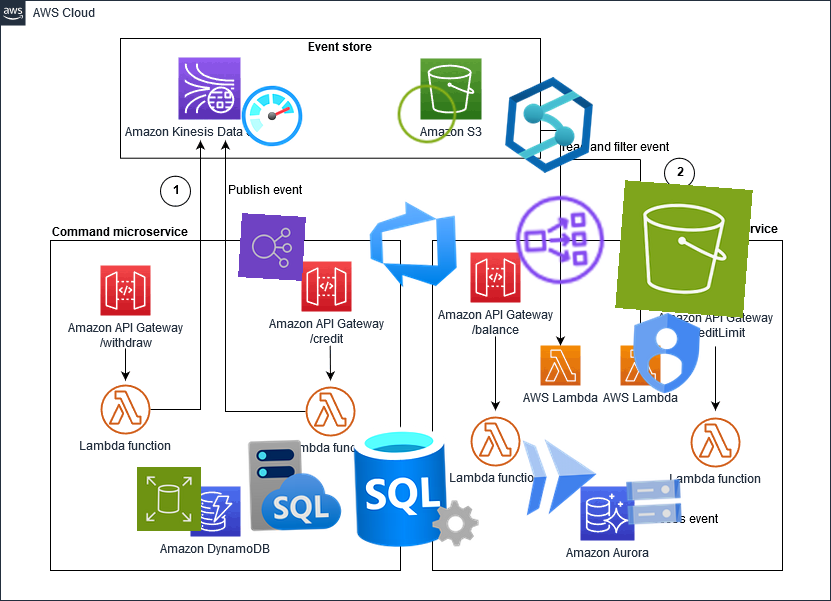aws_amazon_elastic_block_store: (136, 466, 202, 532)
aws_amazon_simple_storage_service: (615, 180, 753, 318)
aws_elastic_load_balancing: (238, 213, 306, 281)
aws_elastic_load_balancing_network_load_balancer: (509, 189, 611, 291)
aws_simple_storage_service_object: (394, 81, 460, 147)
azure_devops: (363, 194, 463, 294)
azure_monitor: (238, 82, 306, 150)
azure_sql_managed_instance: (245, 435, 345, 535)
azure_sql_server: (349, 420, 483, 554)
azure_synapse_analytics: (497, 73, 601, 177)
gcp_cloud_run: (508, 425, 610, 527)
gcp_cloud_storage: (620, 468, 688, 536)
gcp_identity_and_access_management: (615, 302, 717, 404)
